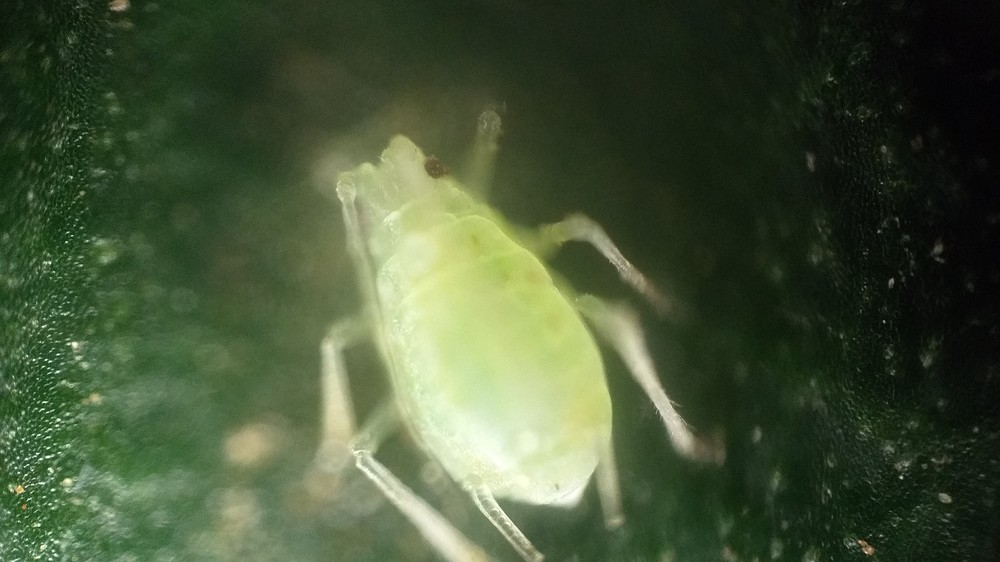Pulgon: (248, 99, 761, 562)
